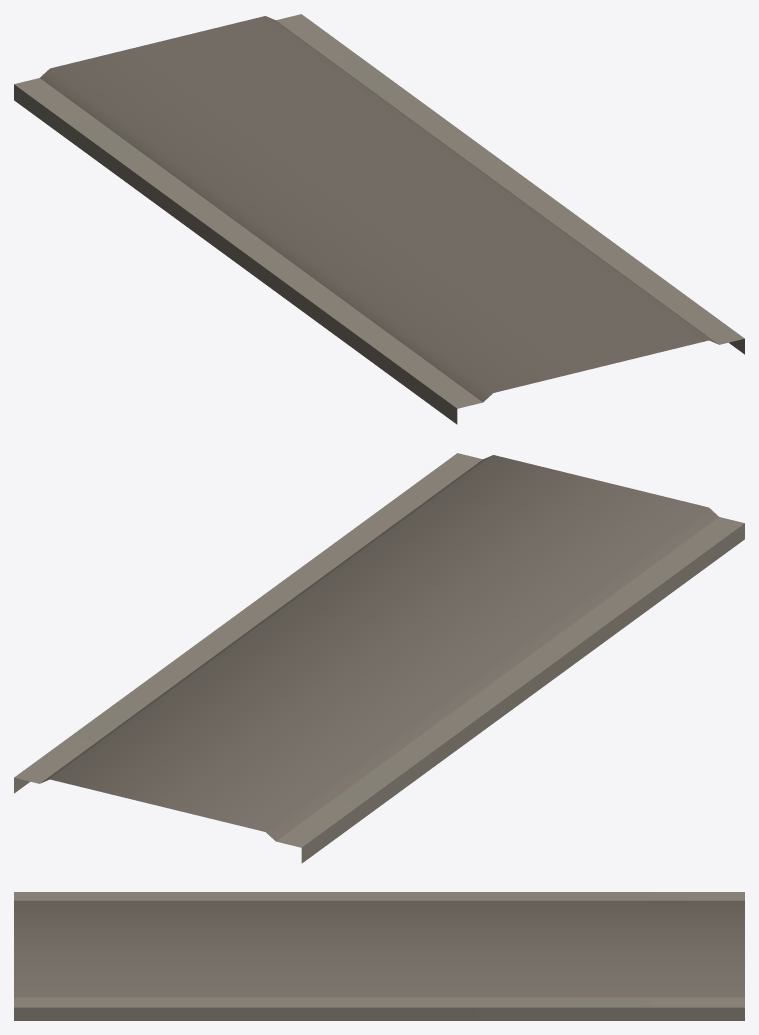
Rendered from RoadMid_2_C.fbx.
3 views of the same model, one above another, from view 1: azimuth 30°, elevation 25°; view 2: azimuth 150°, elevation 25°; view 3: azimuth 270°, elevation 25° (orthographic). The views are drawn at different scales.
Parts seen in each view (by area): view 1: RoadMid_2_C; view 2: RoadMid_2_C; view 3: RoadMid_2_C.
Boxes of the visible parts, bbox=[...] form: RoadMid_2_C: bbox=[14, 14, 744, 424]; RoadMid_2_C: bbox=[14, 453, 744, 863]; RoadMid_2_C: bbox=[14, 892, 744, 1020].
Bounding box in the file's own units: 299 × 22.96 × 800.
